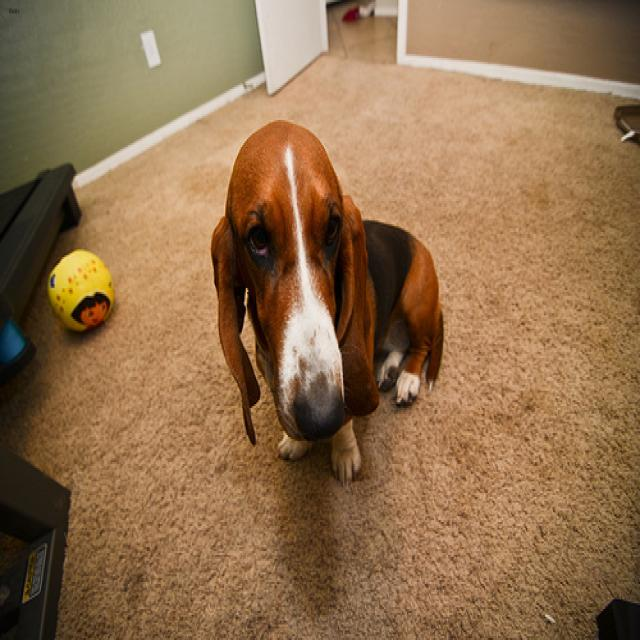dog-basset_hound: (204, 112, 454, 493)
